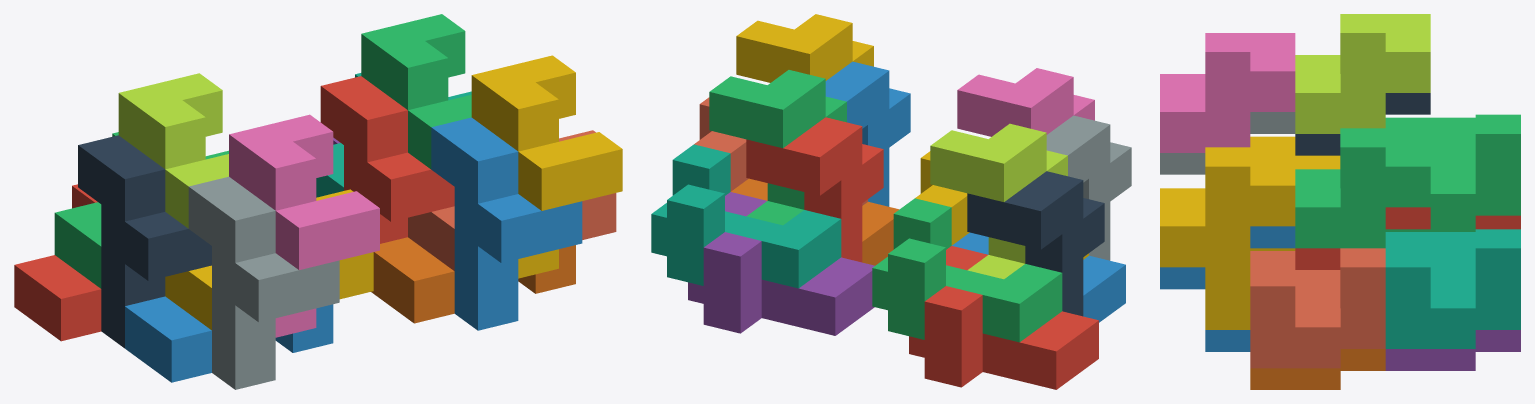
The model's file is tiling.obj.
3 views of the same model, side by side, from view 1: azimuth 30°, elevation 25°; view 2: azimuth 150°, elevation 25°; view 3: azimuth 270°, elevation 25° (orthographic). The views are drawn at different scales.
Parts seen in each view (by area): view 1: copy_2_domain_6, copy_2_domain_2, copy_2_domain_4, copy_2_domain_8, copy_2_domain_1, copy_2_domain_5, copy_2_domain_7, copy_2_domain_3, copy_1_domain_2, copy_1_domain_6, copy_1_domain_1, copy_1_domain_8 (+3 smaller); view 2: copy_1_domain_3, copy_1_domain_7, copy_1_domain_1, copy_1_domain_5, copy_2_domain_5, copy_2_domain_1, copy_2_domain_3, copy_2_domain_7, copy_2_domain_4, copy_2_domain_8, copy_2_domain_6, copy_2_domain_2 (+4 smaller); view 3: copy_2_domain_8, copy_1_domain_7, copy_1_domain_8, copy_2_domain_7, copy_2_domain_3, copy_2_domain_4, copy_1_domain_3, copy_2_domain_6, copy_1_domain_5, copy_1_domain_6, copy_2_domain_5, copy_2_domain_1 (+3 smaller).
Boxes of the visible parts, x1,y1,x2,y2 form: copy_2_domain_6: (431, 117, 582, 330); copy_2_domain_2: (188, 176, 339, 389); copy_2_domain_4: (229, 114, 379, 337); copy_2_domain_8: (471, 55, 622, 278); copy_2_domain_1: (78, 135, 211, 348); copy_2_domain_5: (320, 76, 454, 243); copy_2_domain_7: (361, 14, 471, 169); copy_2_domain_3: (118, 73, 228, 228); copy_1_domain_2: (125, 296, 333, 382); copy_1_domain_6: (371, 237, 575, 323); copy_1_domain_1: (14, 184, 101, 341); copy_1_domain_8: (408, 130, 616, 270); copy_1_domain_3: (872, 198, 1062, 342); copy_1_domain_7: (651, 144, 841, 288); copy_1_domain_1: (909, 246, 1098, 389); copy_1_domain_5: (688, 192, 874, 335); copy_2_domain_5: (746, 117, 883, 262); copy_2_domain_1: (967, 171, 1104, 316); copy_2_domain_3: (930, 123, 1067, 279); copy_2_domain_7: (709, 70, 846, 225); copy_2_domain_4: (957, 68, 1094, 136); copy_2_domain_8: (736, 14, 873, 82); copy_2_domain_6: (825, 61, 910, 206); copy_2_domain_2: (1046, 115, 1131, 260); copy_2_domain_8: (1160, 147, 1295, 329); copy_1_domain_7: (1385, 229, 1520, 348); copy_1_domain_8: (1250, 248, 1385, 368); copy_2_domain_7: (1295, 128, 1430, 248); copy_2_domain_3: (1295, 14, 1430, 133); copy_2_domain_4: (1160, 33, 1295, 152); copy_1_domain_3: (1385, 114, 1520, 231); copy_2_domain_6: (1160, 226, 1295, 351); copy_1_domain_5: (1385, 330, 1520, 370); copy_1_domain_6: (1250, 349, 1385, 389); copy_2_domain_5: (1295, 207, 1430, 269); copy_2_domain_1: (1295, 93, 1430, 155).
Size of the model in its own units: 12 by 5 by 8.
